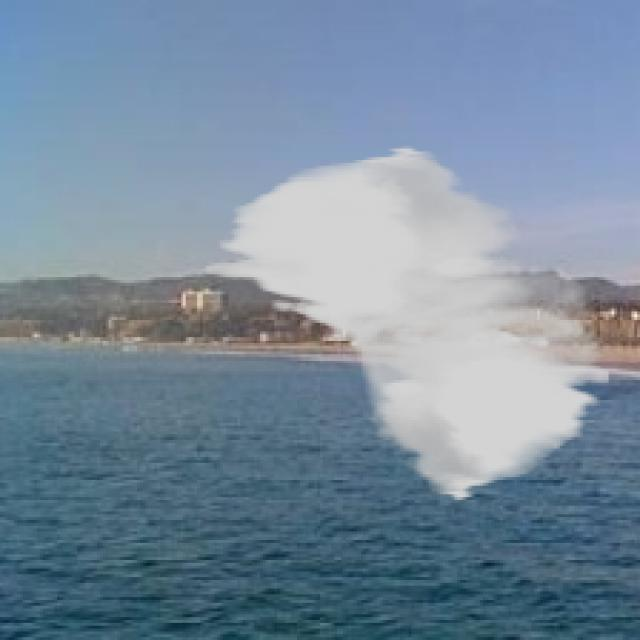Smoke: (206, 146, 612, 503)
